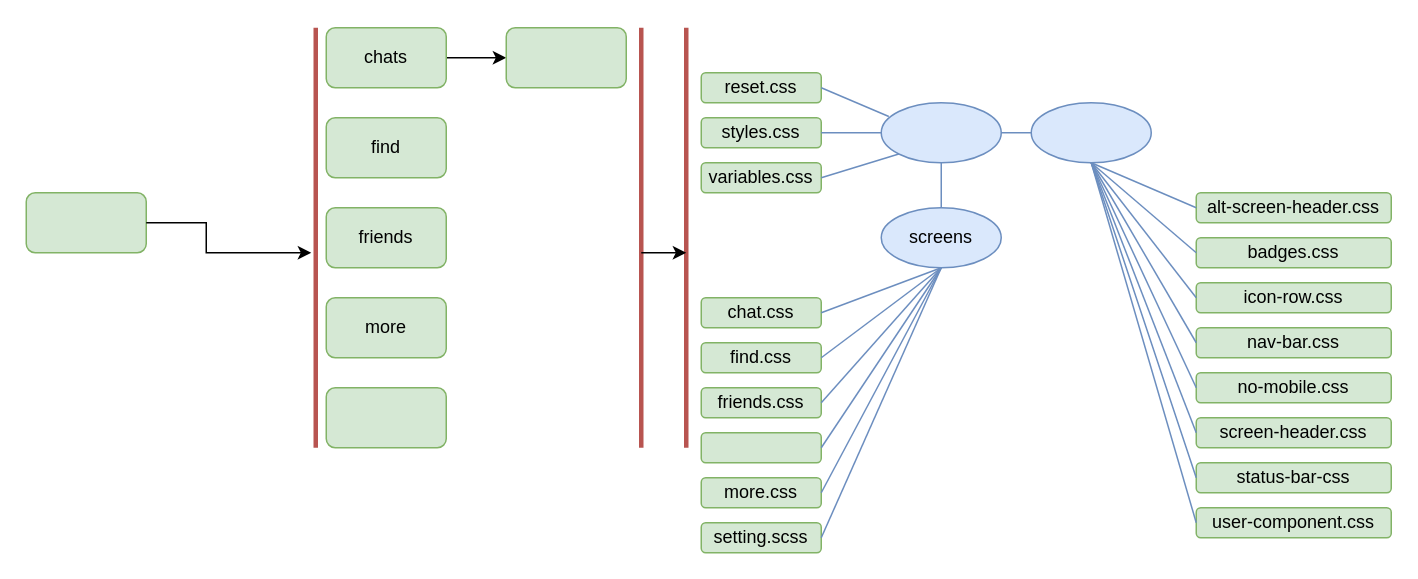
This 1418x579 diagram has some shape labels left out. The box of each missing label's shape, as (x1, y1, x2, y2) in pixels:
chat: (505, 26, 626, 88)
components: (1030, 101, 1151, 163)
css: (880, 101, 1001, 163)
index: (25, 191, 146, 253)
login.css: (700, 431, 821, 463)
settings: (325, 386, 446, 448)
